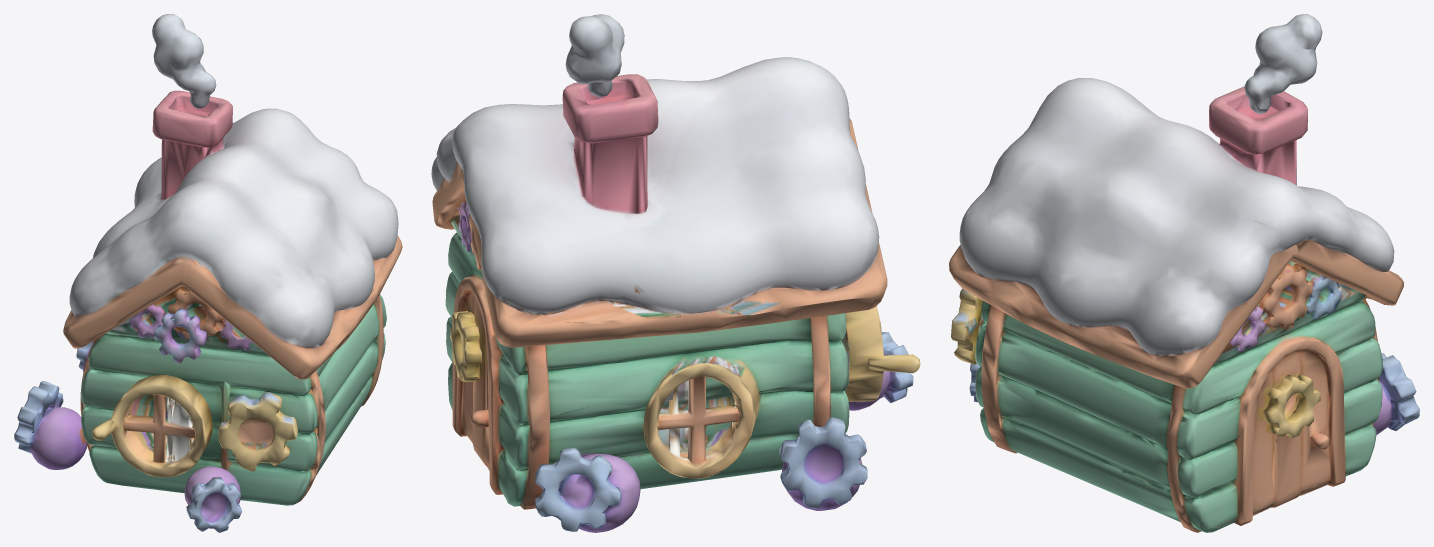
The picture shows the model from 3 angles, left to right: view 1: azimuth 30°, elevation 25°; view 2: azimuth 150°, elevation 25°; view 3: azimuth 270°, elevation 25°; orthographic projection. The views are drawn at different scales.
Parts seen in each view (by area): view 1: repaired; view 2: repaired; view 3: repaired.
Boxes of the visible parts, x1,y1,x2,y2 form: repaired: (14,14,402,532); repaired: (431,14,920,532); repaired: (949,14,1419,532).
Bounding box in the file's own units: 0.9909 × 1 × 0.9752.
Materials: 1 (1 with a texture image).
